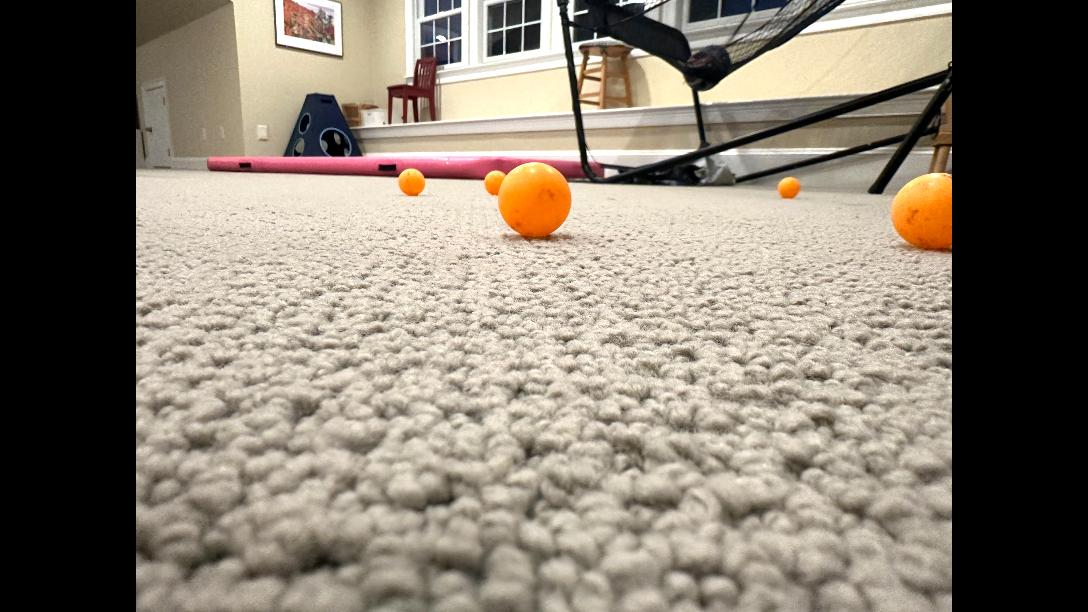Table-Tennis-Ball: (498, 162, 572, 236), (894, 172, 952, 246), (398, 169, 424, 195), (484, 171, 506, 195), (778, 177, 798, 198)
